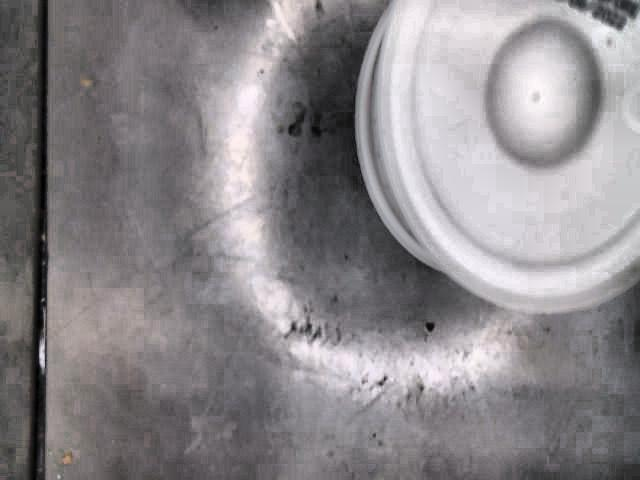Plastic: (353, 0, 640, 311)
